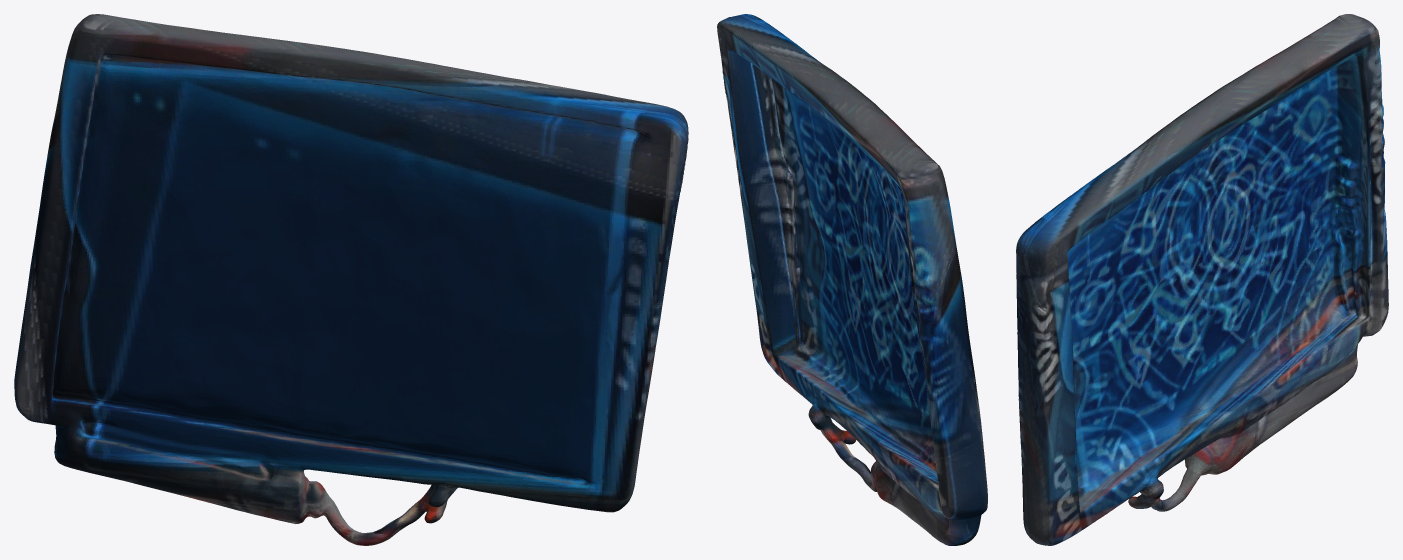
File: secrets_black_crown.glb
The picture shows the model from 3 angles, left to right: view 1: azimuth 30°, elevation 25°; view 2: azimuth 150°, elevation 25°; view 3: azimuth 270°, elevation 25°; orthographic projection. The views are drawn at different scales.
Bounding box in the file's own units: 1.99 × 1.9 × 1.52.
Materials: 1 (1 with a texture image).
